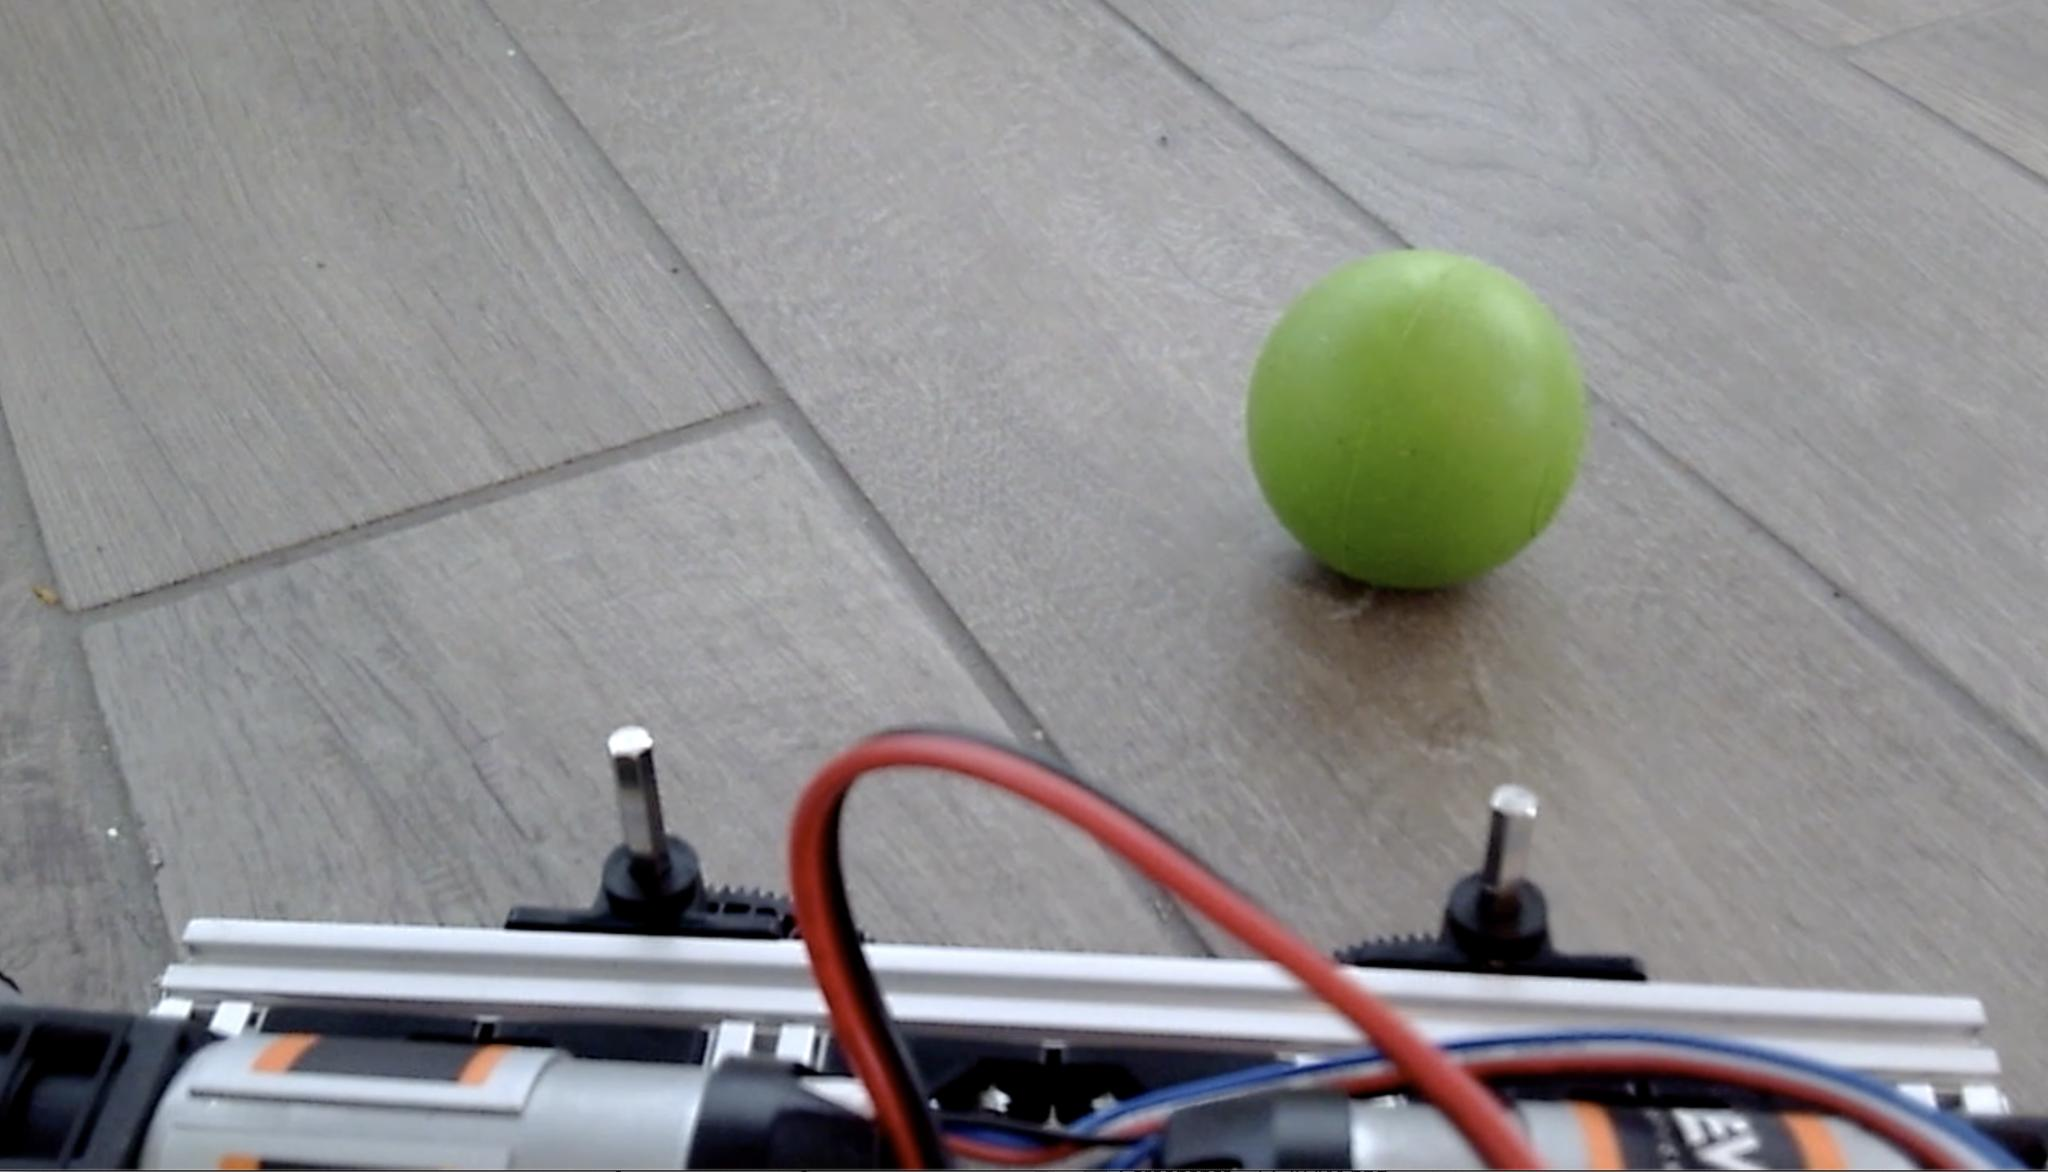greenball: (1241, 243, 1589, 592)
